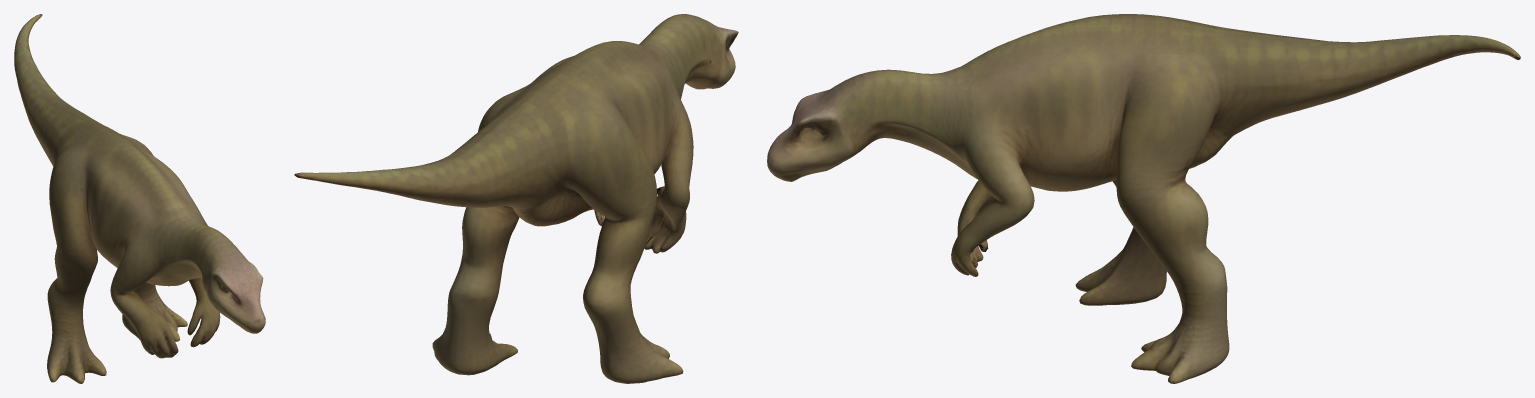
3 renders of one model, left to right at view 1: azimuth 30°, elevation 25°; view 2: azimuth 150°, elevation 25°; view 3: azimuth 270°, elevation 25°, orthographic. The views are drawn at different scales.
Parts seen in each view (by area): view 1: world; view 2: world; view 3: world.
Part boxes in pixels (x1,y1,x2,y2): world: (14, 14, 265, 383); world: (294, 14, 738, 383); world: (767, 14, 1520, 383).
Size of the model in its own units: 2.06 by 2.77 by 6.
Materials: 1 (1 with a texture image).
